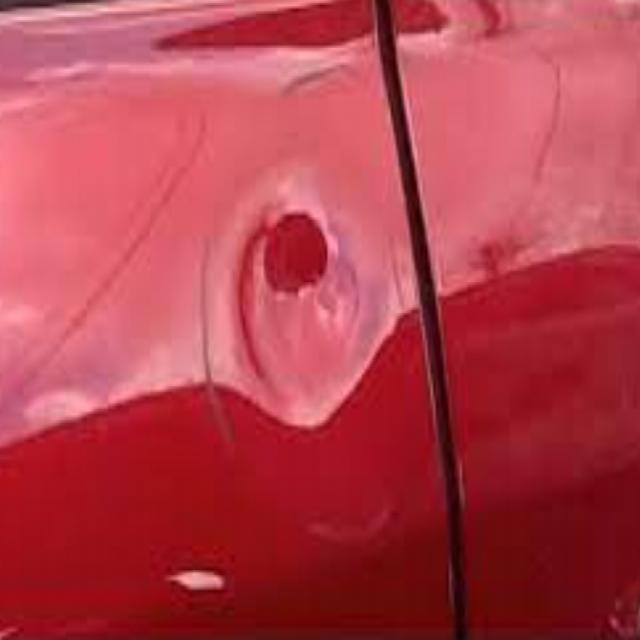dents: (225, 166, 388, 432)
